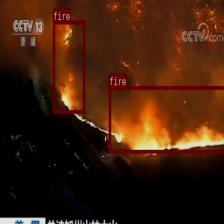fire: (108, 86, 224, 153), (53, 20, 85, 113)
